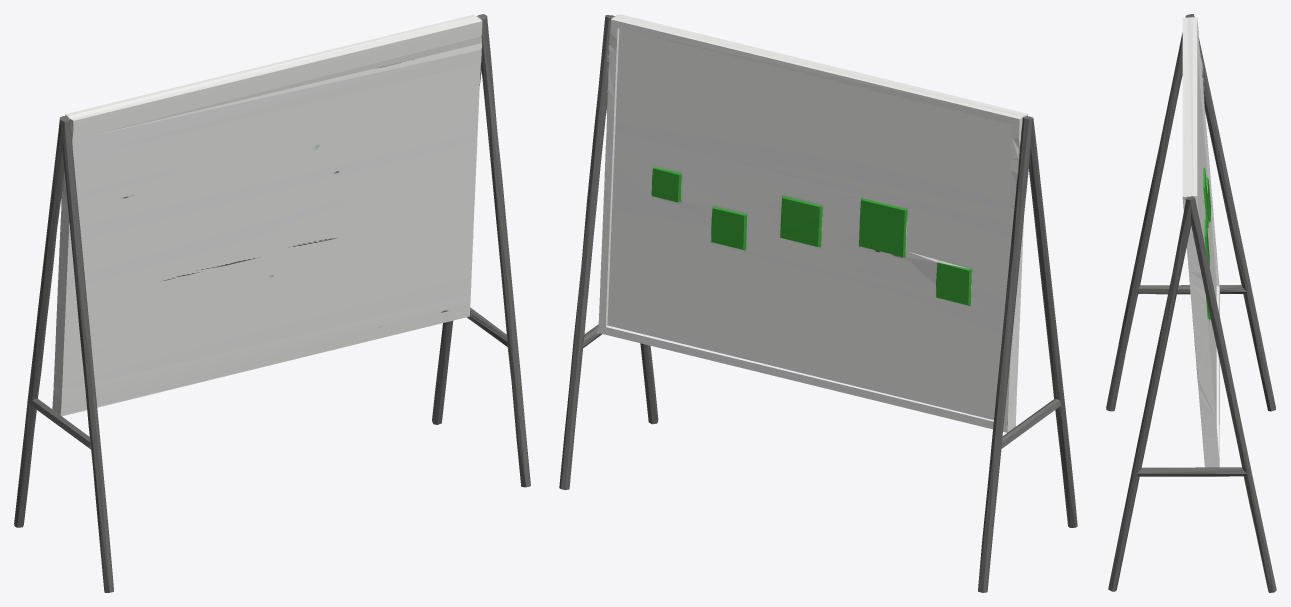
The model's file is whiteboard_neu.obj.
3 views of the same model, side by side, from view 1: azimuth 30°, elevation 25°; view 2: azimuth 150°, elevation 25°; view 3: azimuth 270°, elevation 25° (orthographic). The views are drawn at different scales.
Visible parts, largest first — view 1: 282295_23_05_25_14_30_17_0; view 2: 282295_23_05_25_14_30_17_0; view 3: 282295_23_05_25_14_30_17_0.
Part boxes in pixels (<box>): 282295_23_05_25_14_30_17_0: <box>14,14,530,592</box>; 282295_23_05_25_14_30_17_0: <box>559,14,1077,592</box>; 282295_23_05_25_14_30_17_0: <box>1106,14,1276,592</box>.
Bounding box in the file's own units: 5.84 × 5.78 × 2.26.
1 material, 1 textured.
